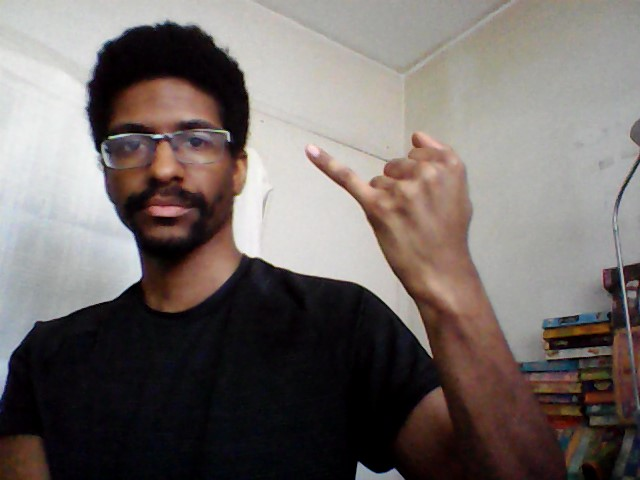j: (302, 125, 480, 274)
